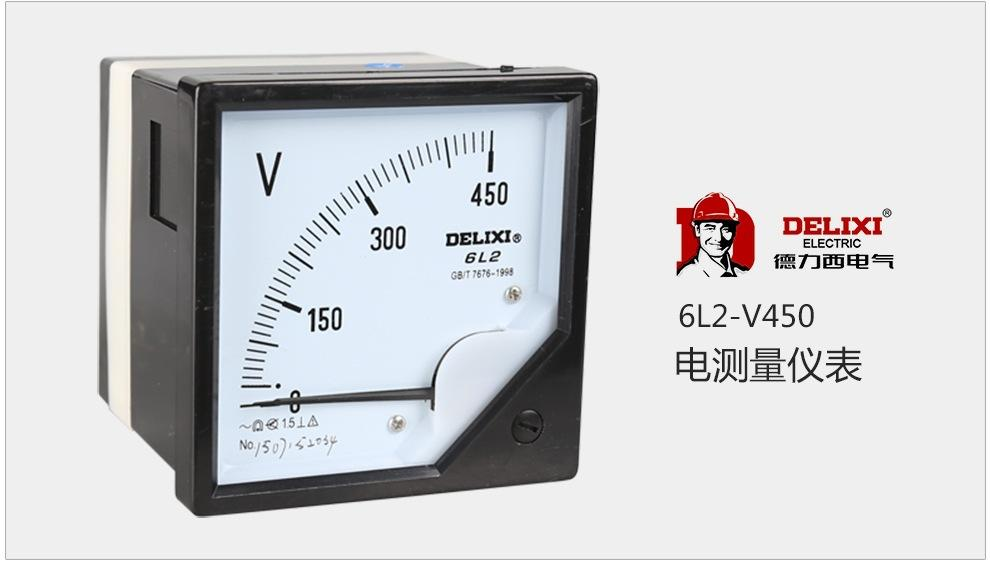pointer: (217, 100, 566, 484)
